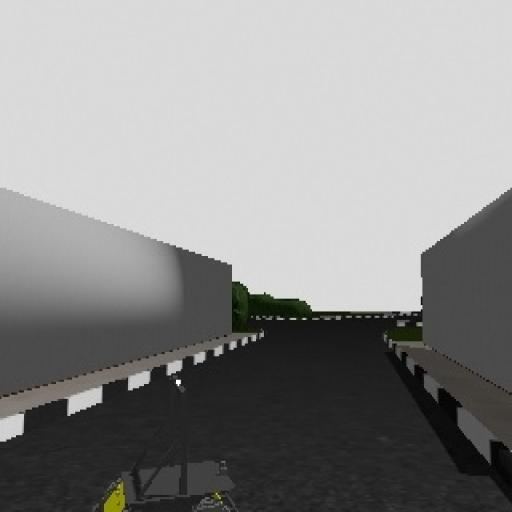huskya200: (94, 366, 246, 512)
